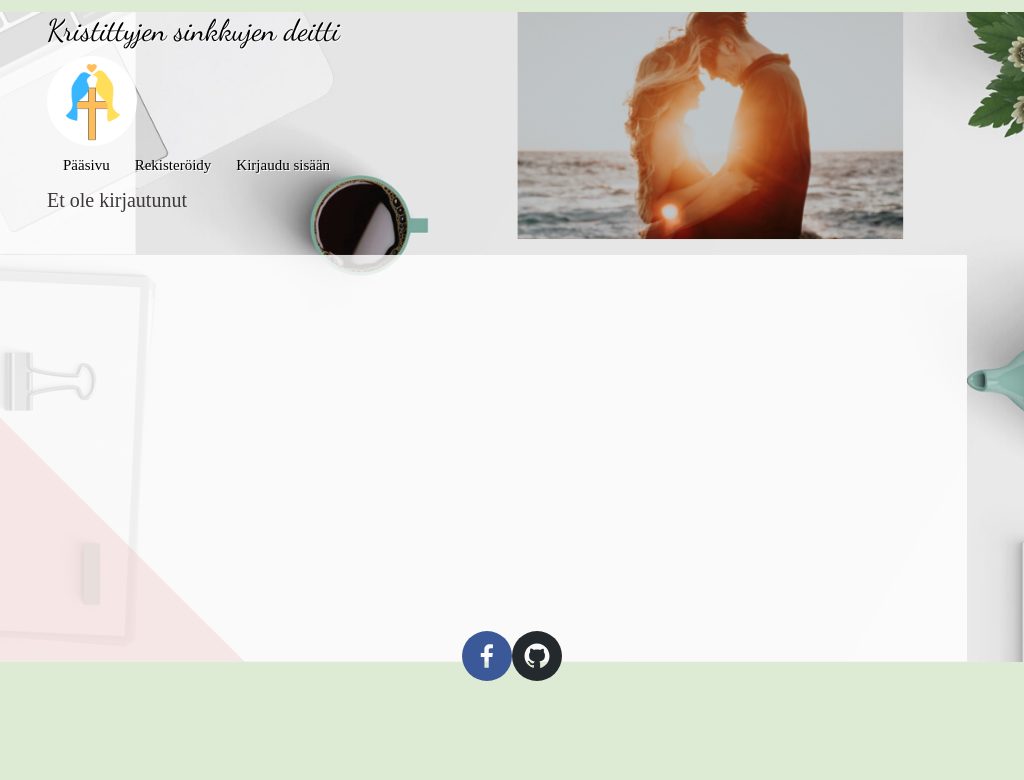
Test: Post-tests › Loggin fails with wrong email
Click the link with id "loginform" at (283, 165), box [236,157,330,173]
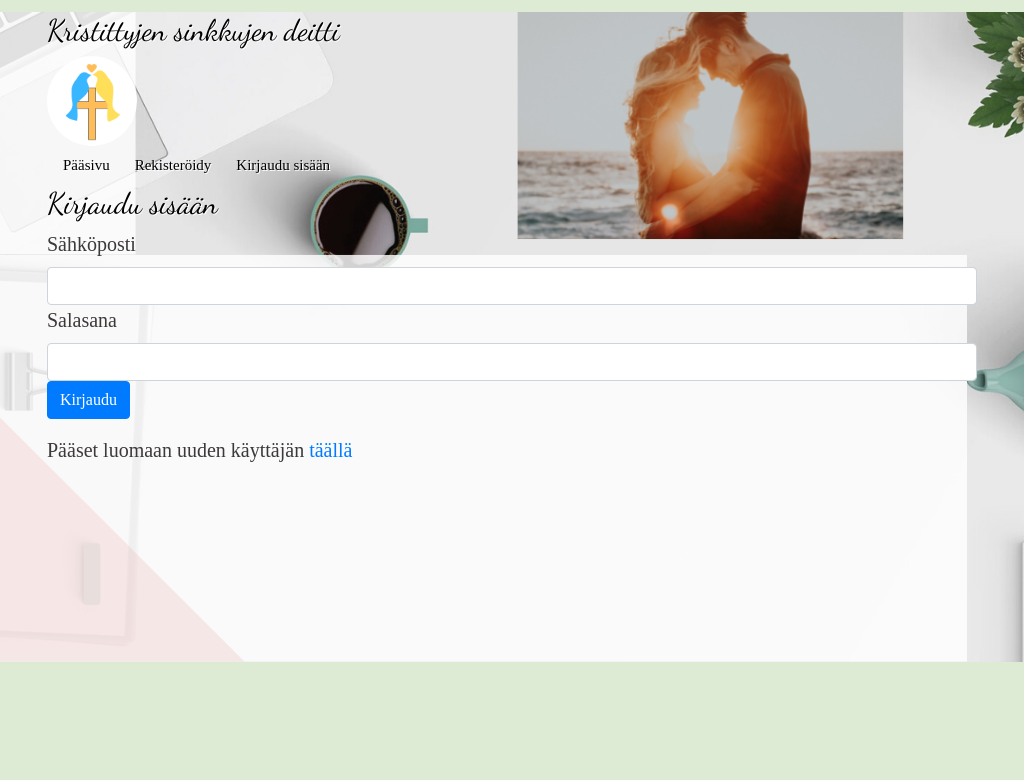
Type "hehe@heh.fi" into the field with id "email" at (512, 286), box [47,267,977,305]
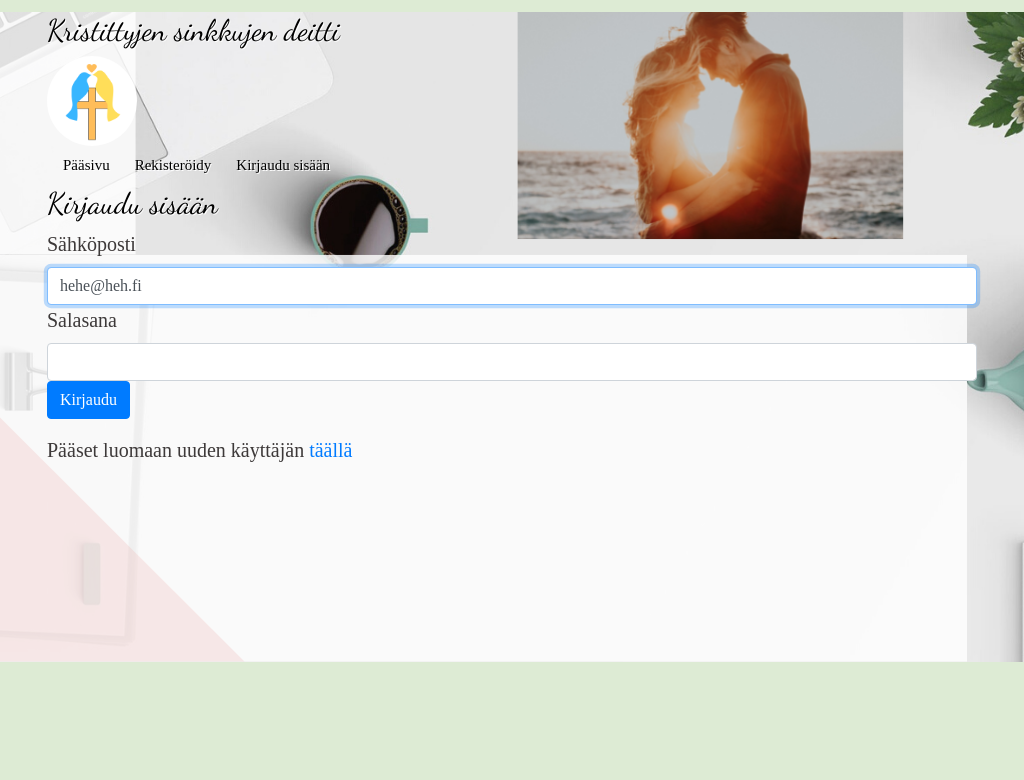
Type "bigsikret" into the password field at (512, 362), box [47,343,977,381]
Then press Enter
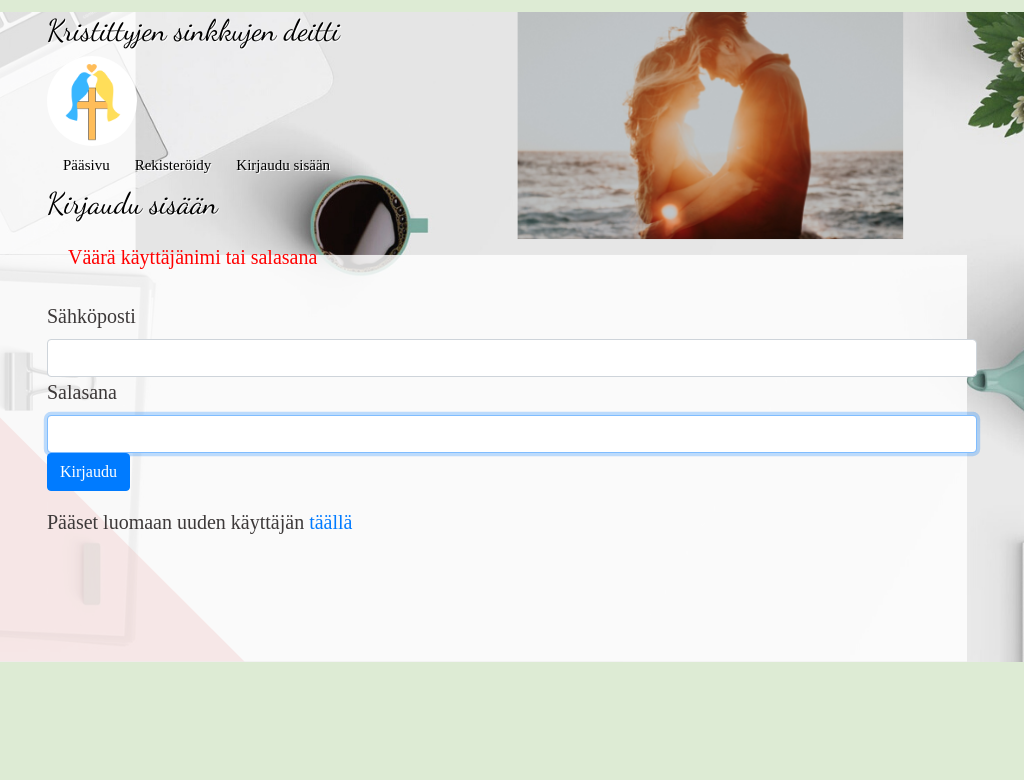
Result: the text "Väärä käyttäjänimi tai salasana" is shown at [68,246,317,268]
